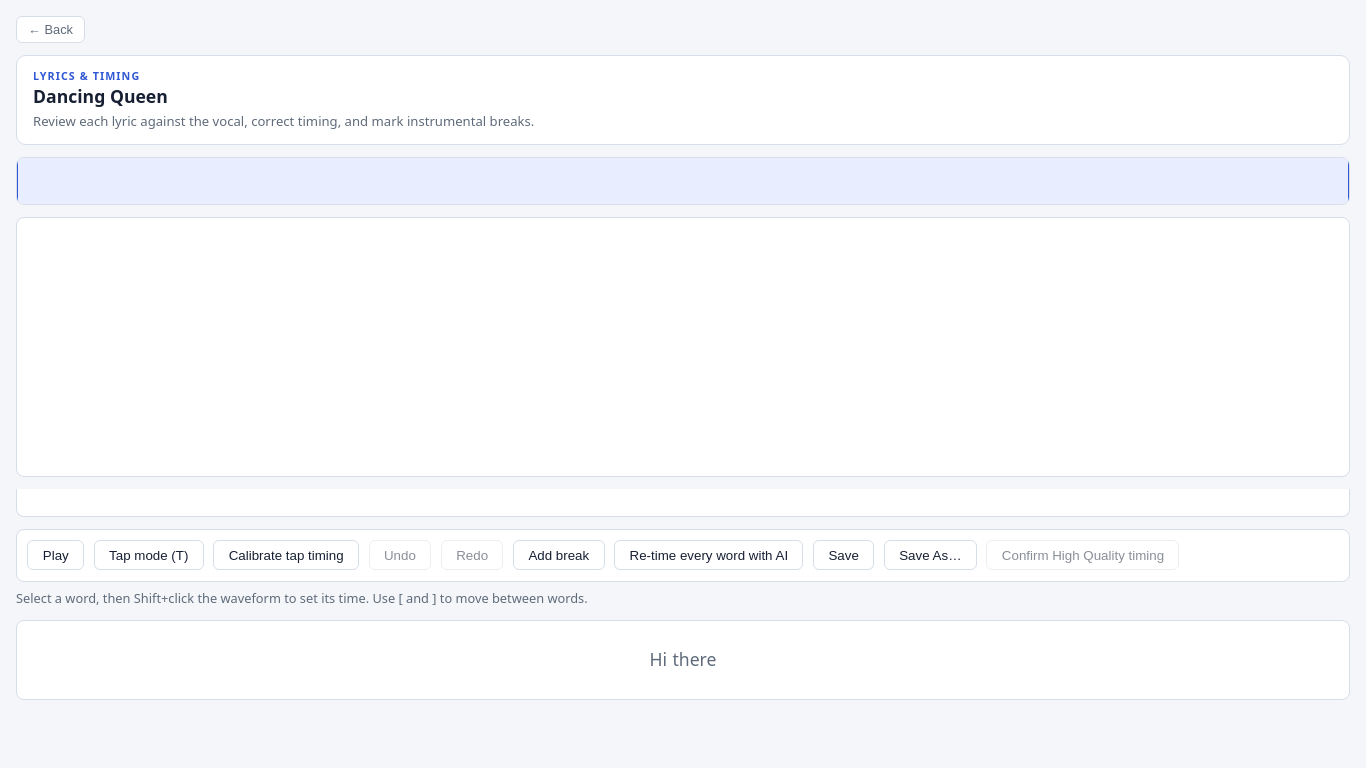
Test: LyricEditor › preserves unsaved edits until the user chooses to load newer background lyrics
Click the button "Hi": (658, 660) [647, 644, 670, 676]
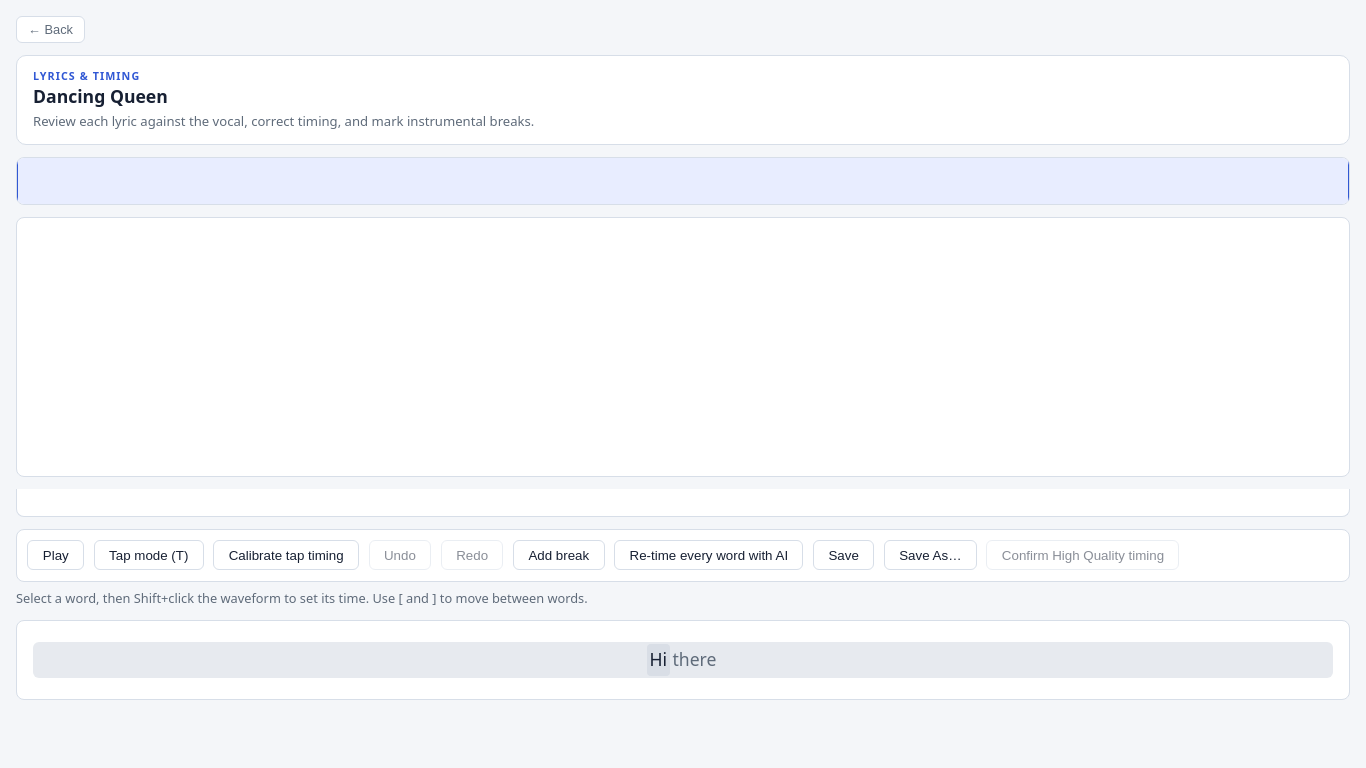
Press ArrowRight
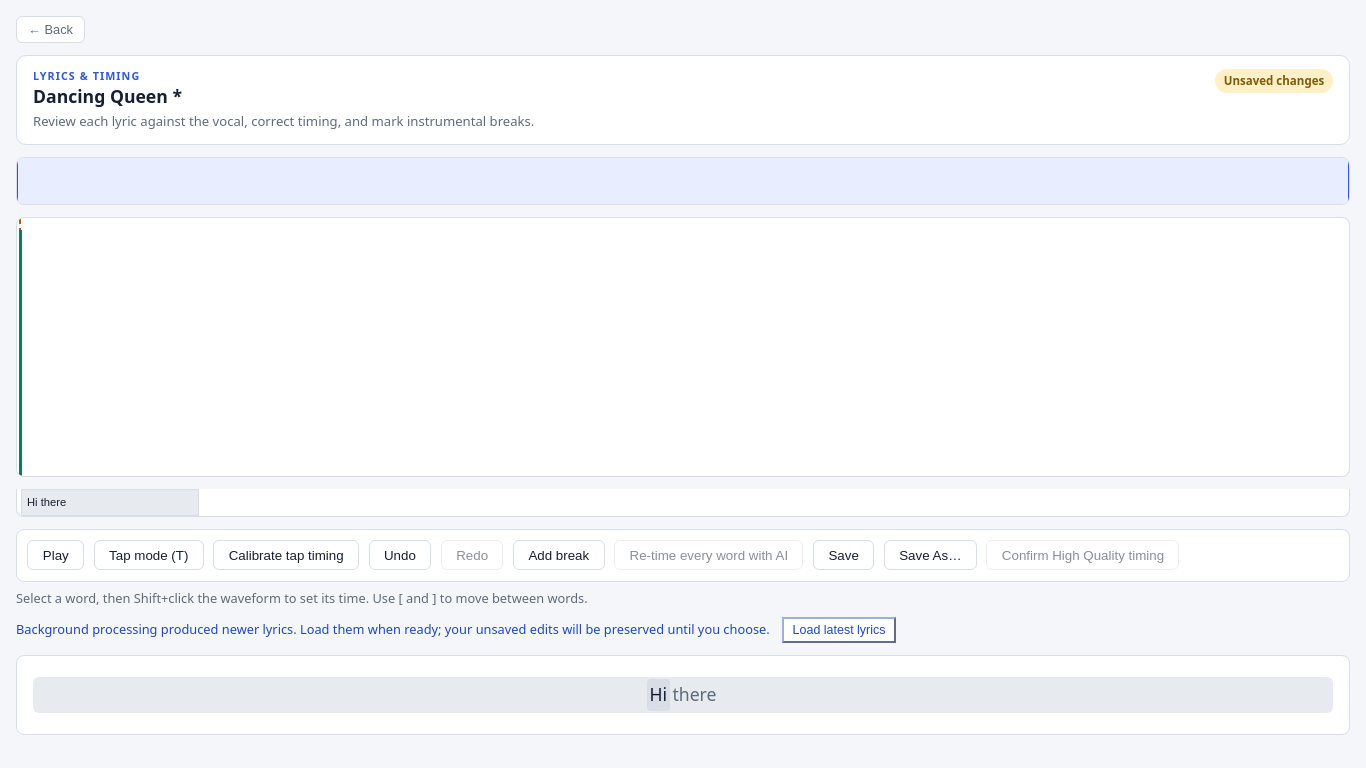
Expected: the button "Hi" is shown, [647, 679, 670, 711]
Expected: the button "Load latest lyrics" is shown
Click the button "Load latest lyrics": (839, 630) [782, 617, 896, 643]
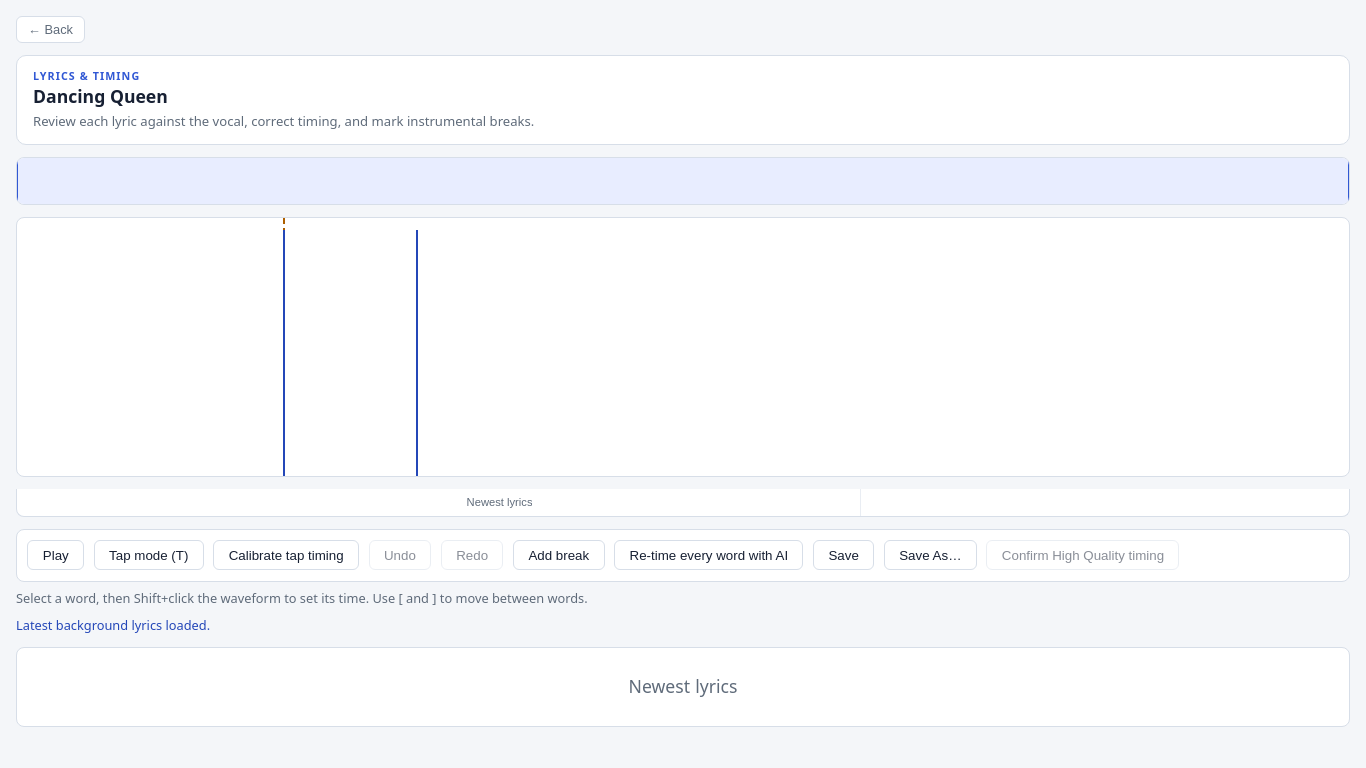
Expected: the button "Newest" is shown, [626, 671, 693, 703]
Expected: the text "Latest background lyrics loaded." is shown, [16, 616, 210, 634]
